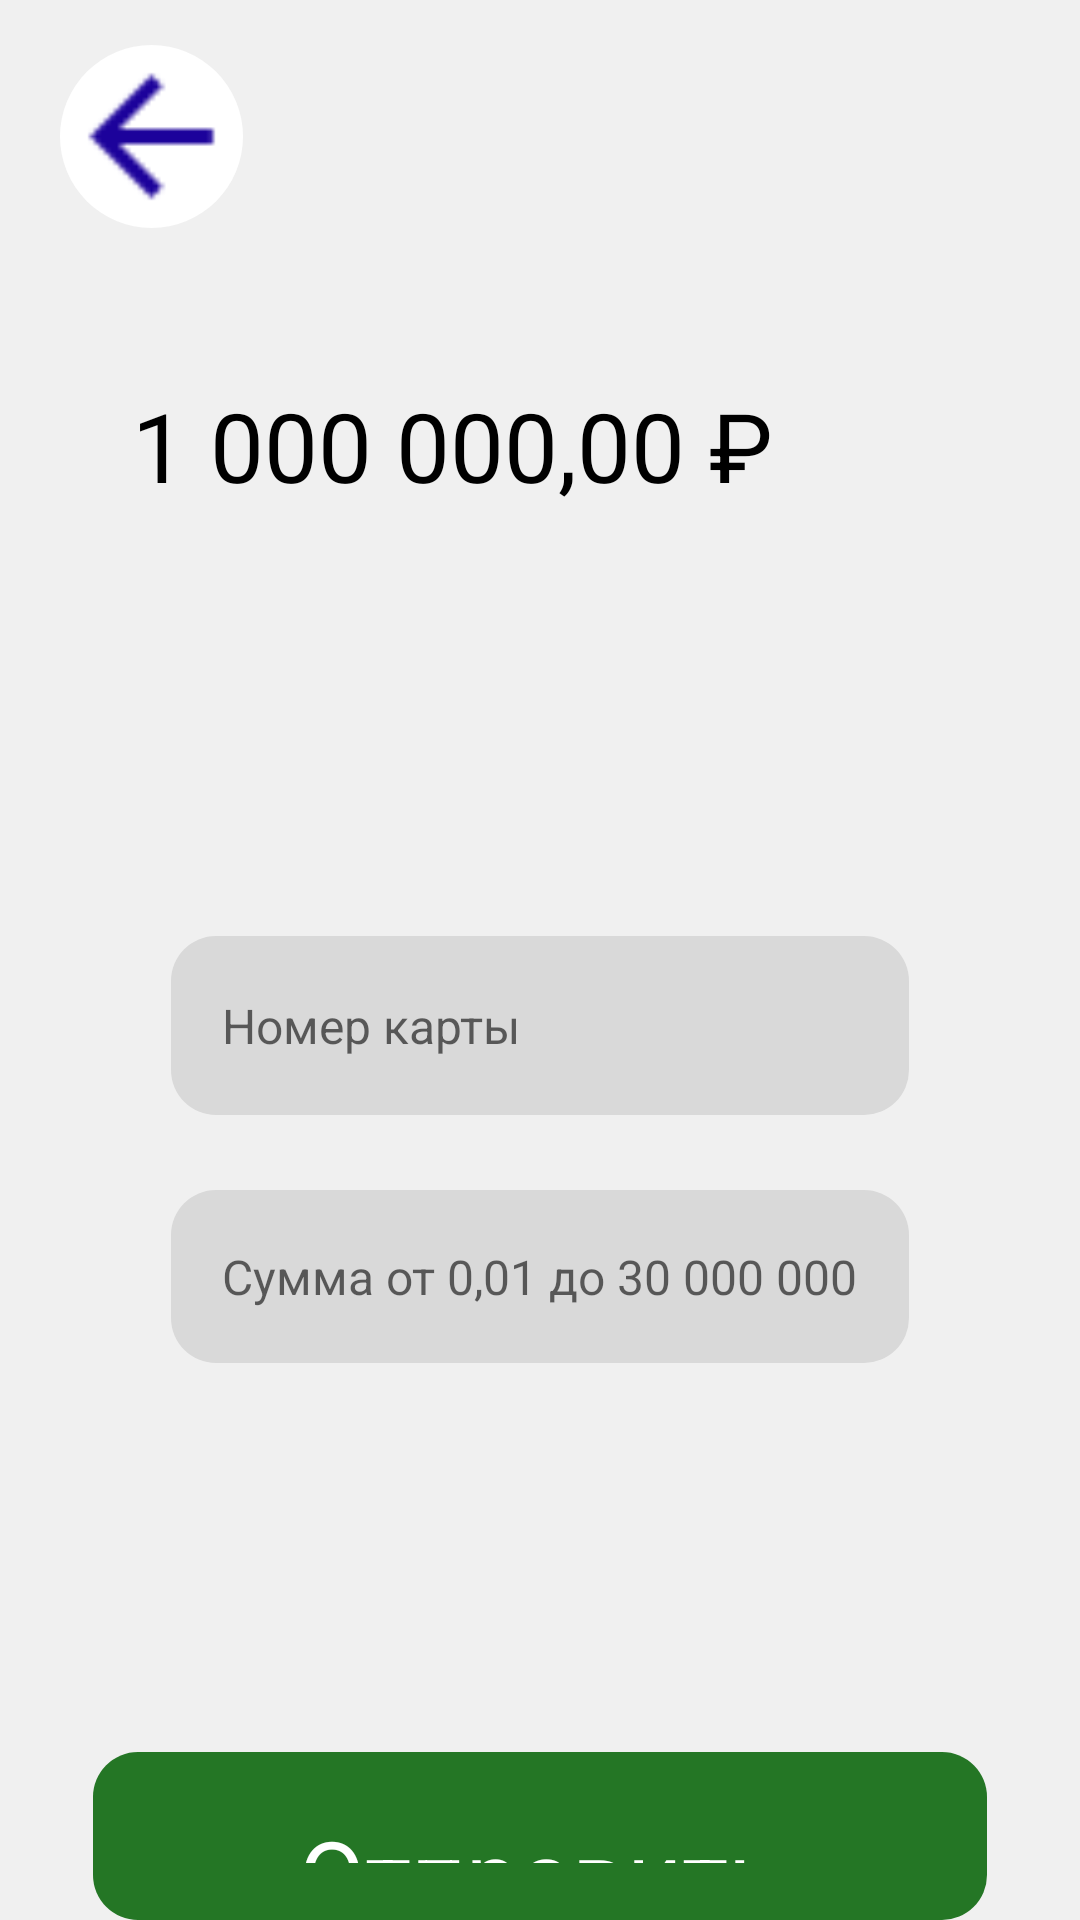

Point at icon controls on the screen. Image size 1080x1920, points as point (x, y).
back: point (151, 136)
